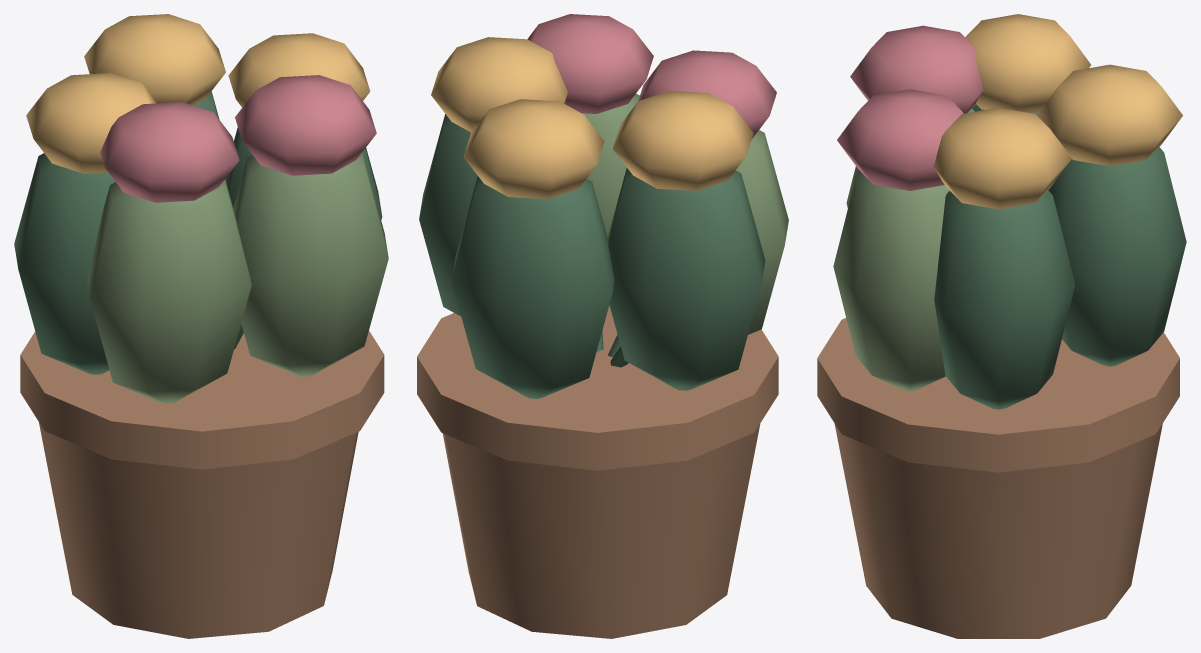
The model's file is FlowerPot_B.glb.
3 renders of one model, left to right at view 1: azimuth 30°, elevation 25°; view 2: azimuth 150°, elevation 25°; view 3: azimuth 270°, elevation 25°, orthographic.
Visible parts, largest first — view 1: FlowerPot_B bowl, FlowerPot_B rim, FlowerPot_B foliage.001, FlowerPot_B foliage.003, FlowerPot_B foliage.004, FlowerPot_B flower.003, FlowerPot_B flower.001, FlowerPot_B flower.002, FlowerPot_B flower.004, FlowerPot_B flower, FlowerPot_B foliage; view 2: FlowerPot_B bowl, FlowerPot_B rim, FlowerPot_B foliage.002, FlowerPot_B foliage.004, FlowerPot_B flower.002, FlowerPot_B flower.004, FlowerPot_B flower.003, FlowerPot_B flower, FlowerPot_B foliage, FlowerPot_B flower.001, FlowerPot_B foliage.001, FlowerPot_B foliage.003; view 3: FlowerPot_B bowl, FlowerPot_B rim, FlowerPot_B foliage, FlowerPot_B foliage.002, FlowerPot_B foliage.003, FlowerPot_B flower.002, FlowerPot_B flower, FlowerPot_B flower.003, FlowerPot_B flower.004, FlowerPot_B flower.001.
Part boxes in pixels (left/top/right/bottom): FlowerPot_B bowl: left=39, top=422, right=358, bottom=638; FlowerPot_B rim: left=20, top=331, right=384, bottom=469; FlowerPot_B foliage.001: left=87, top=179, right=251, bottom=403; FlowerPot_B foliage.003: left=233, top=152, right=388, bottom=376; FlowerPot_B foliage.004: left=14, top=153, right=115, bottom=374; FlowerPot_B flower.003: left=235, top=75, right=376, bottom=175; FlowerPot_B flower.001: left=100, top=102, right=239, bottom=202; FlowerPot_B flower.002: left=84, top=14, right=225, bottom=105; FlowerPot_B flower.004: left=26, top=73, right=156, bottom=173; FlowerPot_B flower: left=228, top=33, right=370, bottom=107; FlowerPot_B foliage: left=225, top=127, right=382, bottom=219; FlowerPot_B bowl: left=442, top=424, right=760, bottom=638; FlowerPot_B rim: left=417, top=305, right=778, bottom=470; FlowerPot_B foliage.002: left=451, top=176, right=614, bottom=398; FlowerPot_B foliage.004: left=607, top=168, right=765, bottom=390; FlowerPot_B flower.002: left=463, top=99, right=604, bottom=199; FlowerPot_B flower.004: left=612, top=91, right=753, bottom=190; FlowerPot_B flower.003: left=527, top=14, right=653, bottom=113; FlowerPot_B flower: left=431, top=37, right=567, bottom=132; FlowerPot_B foliage: left=419, top=114, right=477, bottom=316; FlowerPot_B flower.001: left=638, top=50, right=776, bottom=139; FlowerPot_B foliage.001: left=736, top=130, right=788, bottom=334; FlowerPot_B foliage.003: left=582, top=93, right=639, bottom=236; FlowerPot_B bowl: left=834, top=423, right=1162, bottom=638; FlowerPot_B rim: left=817, top=318, right=1179, bottom=472; FlowerPot_B foliage: left=934, top=190, right=1075, bottom=409; FlowerPot_B foliage.002: left=1048, top=147, right=1186, bottom=366; FlowerPot_B foliage.003: left=833, top=171, right=949, bottom=391; FlowerPot_B flower.002: left=1037, top=64, right=1182, bottom=166; FlowerPot_B flower: left=933, top=107, right=1071, bottom=209; FlowerPot_B flower.003: left=837, top=89, right=963, bottom=190; FlowerPot_B flower.004: left=965, top=14, right=1090, bottom=113; FlowerPot_B flower.001: left=850, top=25, right=983, bottom=113.
Bounding box in the file's own units: 0.5776 × 0.815 × 0.5294.
